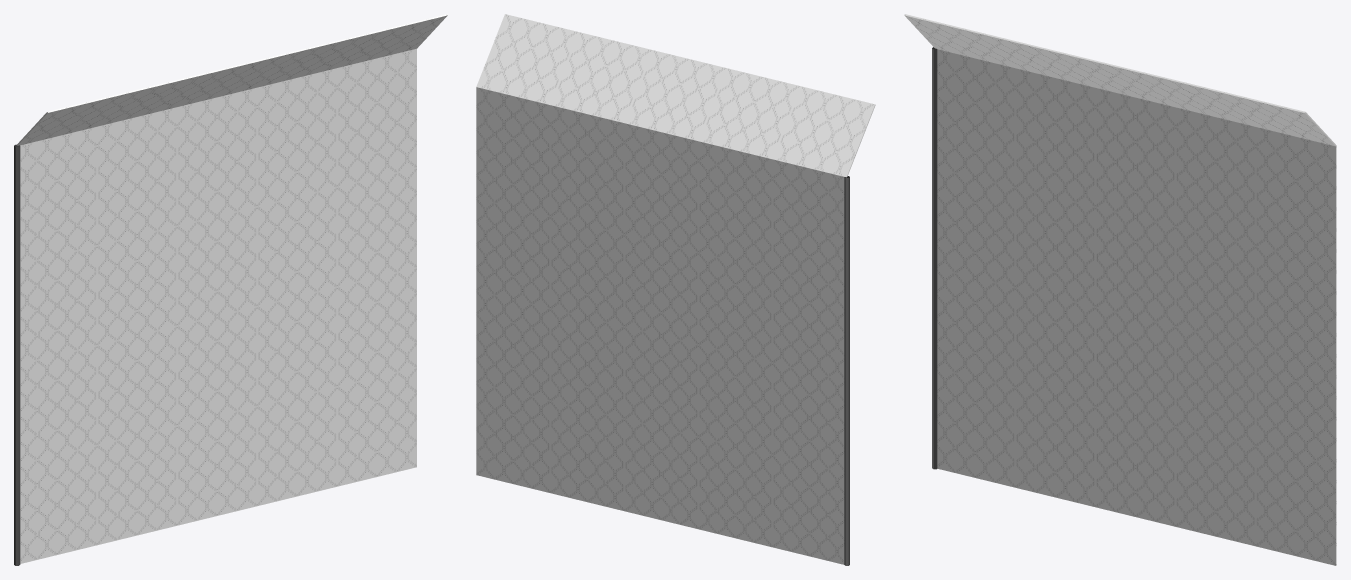
The model's file is FBX_Fence_C.fbx.
3 renders of one model, left to right at view 1: azimuth 30°, elevation 25°; view 2: azimuth 150°, elevation 25°; view 3: azimuth 330°, elevation 25°, orthographic. The views are drawn at different scales.
Visible parts, largest first — view 1: Fence_C; view 2: Fence_C; view 3: Fence_C.
Part boxes in pixels (x1,y1,x2,y2): Fence_C: (14, 14, 447, 565); Fence_C: (476, 14, 875, 565); Fence_C: (904, 14, 1336, 565).
Bounding box in the file's own units: 3.02 × 3.41 × 0.4203.
